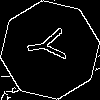Y: (25, 25, 76, 65)
